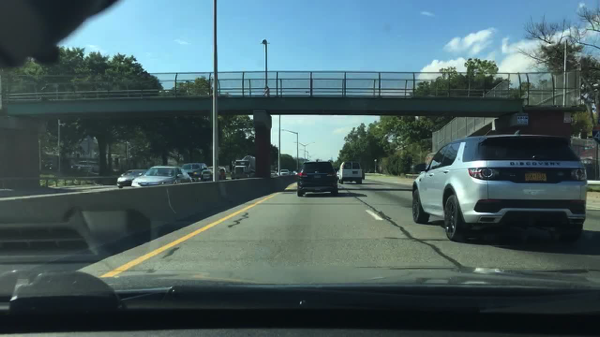car: (409, 134, 587, 241), (296, 157, 340, 197), (132, 164, 191, 191), (116, 169, 147, 189), (338, 161, 362, 184), (181, 162, 207, 180), (71, 160, 95, 172), (207, 166, 226, 181), (199, 170, 214, 182), (333, 167, 341, 179), (278, 168, 289, 176), (45, 162, 53, 170), (269, 170, 278, 177), (360, 170, 364, 179), (292, 170, 298, 175)
traffic sign: (589, 124, 599, 145), (518, 114, 528, 125), (563, 112, 570, 124)
truck: (230, 155, 257, 180)
